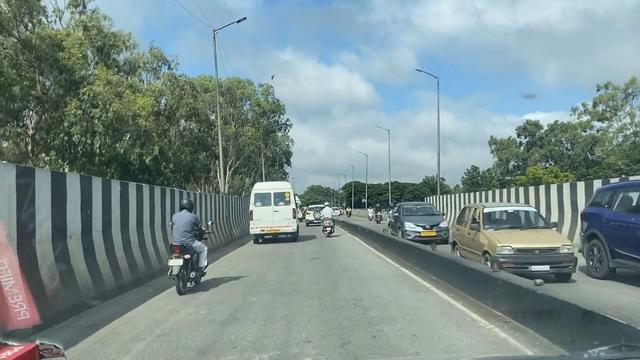HMV: (247, 180, 298, 244)
LMV: (162, 201, 204, 303), (323, 199, 338, 242)
